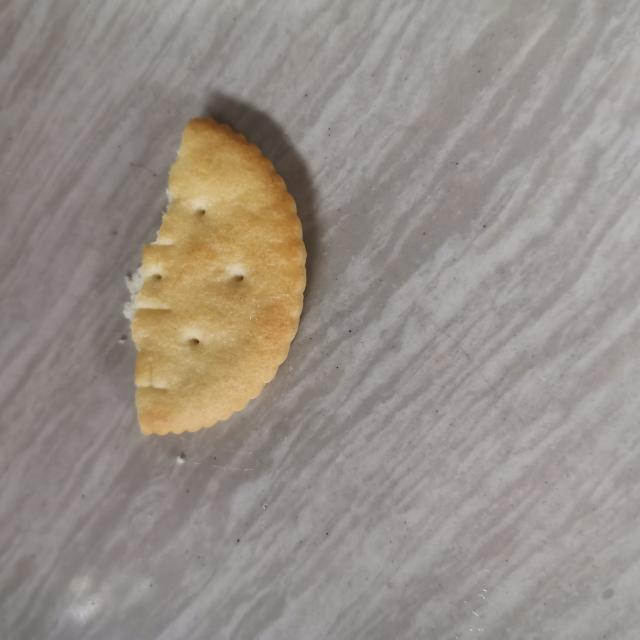Broken: (123, 115, 308, 437)
